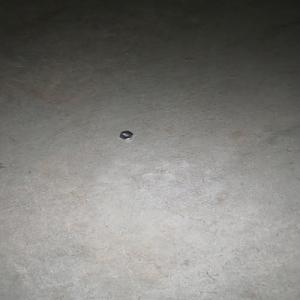Nut: (117, 128, 131, 137)
